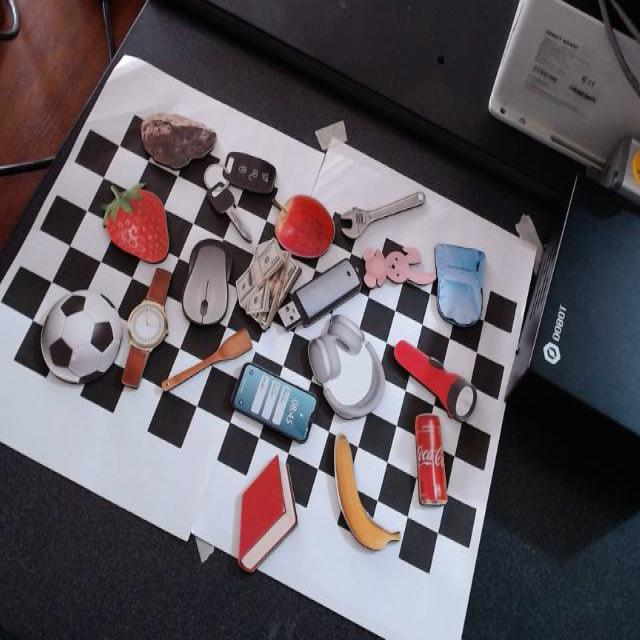Other Objects: (29, 268, 132, 406), (193, 130, 278, 241), (384, 336, 481, 428), (275, 249, 370, 339), (306, 312, 385, 420), (333, 433, 400, 551), (228, 230, 303, 333), (230, 361, 317, 443), (161, 326, 253, 403), (120, 267, 172, 389), (337, 174, 426, 243), (430, 243, 484, 328), (139, 111, 216, 168), (271, 193, 335, 259), (180, 241, 228, 325), (361, 244, 436, 288), (413, 412, 447, 505)
